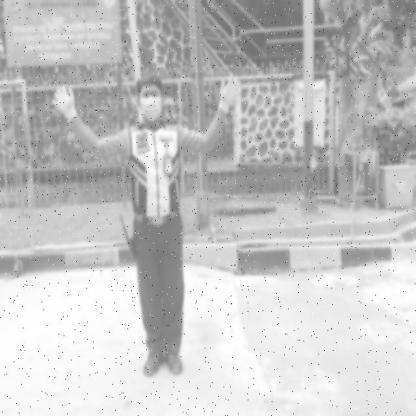boots: (142, 348, 165, 378), (164, 350, 186, 376)
gloves: (50, 82, 79, 124), (217, 70, 243, 114)
mask: (142, 99, 161, 120)
